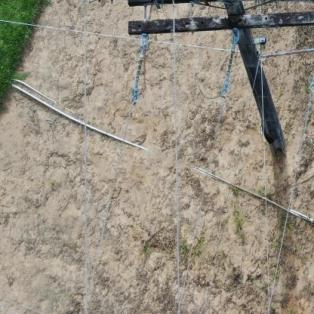Poste: (200, 0, 297, 166)
